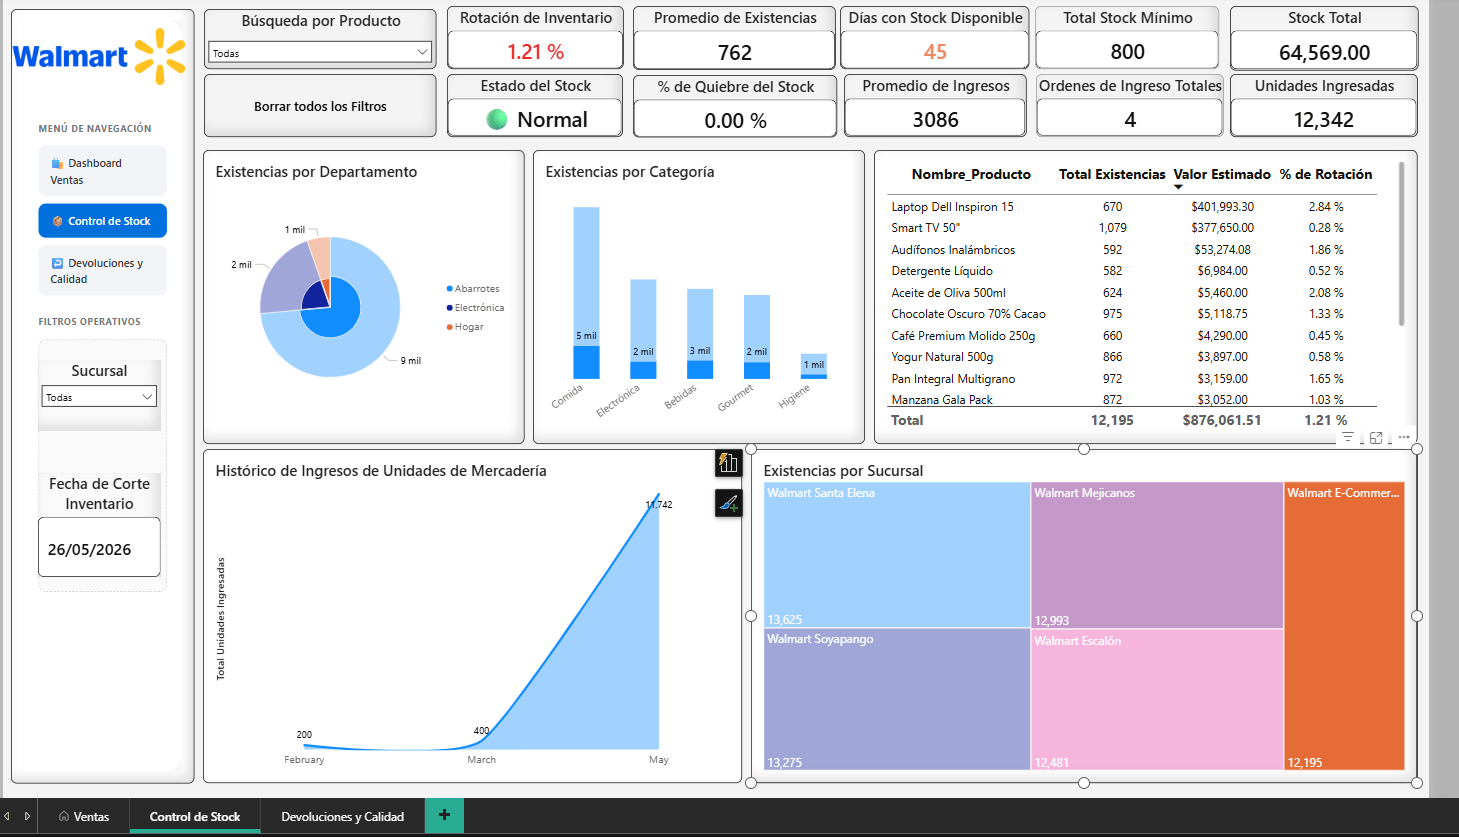

What the dashboard file says about the page in this screenshot:
{"tool":"powerbi","page":{"name":"Control de Stock","canvas":[1920,1080],"ordinal":1},"visuals":[{"type":"htmlContent443BE3AD55E043BF878BED274D3A6865","fields":{"content":["Medidas.Barra_Lateral_Stock"]},"box":[10.9,17.2,247,1042.9],"z":0},{"type":"cardVisual","title":"Stock Total","fields":{"Data":["Medidas.Total Existencias_Global"]},"box":[1652.4,13.9,253.7,86.9],"z":1000},{"type":"cardVisual","title":"Total Stock Mínimo","fields":{"Data":["Medidas.Total Stock Minimo"]},"box":[1390,13.9,248.5,85.1],"z":2000},{"type":"cardVisual","title":"Rotación de Inventario","fields":{"Data":["Medidas.Rotacion de Inventario"]},"box":[597.7,13.9,238,85.1],"z":3000},{"type":"cardVisual","title":"Promedio de Existencias","fields":{"Data":["Medidas.Promedio Existencias"]},"box":[848.4,13.5,273.4,86.2],"z":4000},{"type":"tableEx","fields":{"Values":["vDim_Productos.Nombre_Producto","Medidas.Total Existencias","Medidas.Valor Estimado del Inventario","Medidas.Rotacion de Inventario"]},"box":[1172.9,206.8,731.5,396.2],"z":5000},{"type":"columnChart","title":"Existencias por Categoría","fields":{"Category":["vDim_Productos.Categoria"],"Y":["Medidas.Total Existencias"]},"box":[714.1,206.8,446.6,396.2],"z":6000},{"type":"pieChart","title":"Existencias por Departamento","fields":{"Category":["vDim_Departamentos.Nombre_Departamento"],"Y":["Medidas.Total Existencias"]},"box":[269.3,206.8,432.7,396.2],"z":7000},{"type":"lineChart","title":"Histórico de Ingresos de Unidades de Mercadería","fields":{"Category":["vDim_Calendario.Anio Jerarquía.Anio","vDim_Calendario.Anio Jerarquía.Nombre_Mes"],"Y":["Medidas.Total Unidades Ingresadas"]},"box":[269.8,610.6,726.5,449.7],"z":8000},{"type":"treemap","title":"Existencias por Sucursal","fields":{"Group":["vDim_Tiendas.Nombre_Tienda"],"Values":["Medidas.Total Existencias"]},"box":[1006.7,610.6,897.7,449.7],"z":9000},{"type":"actionButton","title":"Ventas","box":[39.8,195.5,190.3,83],"z":10000},{"type":"image","box":[0,13.9,258,135],"z":11000},{"type":"actionButton","title":"Ventas","box":[34.6,278.5,190.3,48.4],"z":12000},{"type":"actionButton","title":"Ventas","box":[34.6,342.5,190.3,65.7],"z":13000},{"type":"slicer","title":"Sucursal","fields":{"Values":["vDim_Tiendas.Nombre_Tienda"]},"box":[46.7,490.8,165.4,95.3],"z":14000},{"type":"cardVisual","title":"Unidades Ingresadas","fields":{"Data":["Medidas.Total Unidades Ingresadas"]},"box":[1651.9,105.5,252.5,84.8],"z":15000},{"type":"cardVisual","title":"Ordenes de Ingreso Totales","fields":{"Data":["Medidas.Total_Embarques"]},"box":[1390.7,105.5,252.5,84.8],"z":16000},{"type":"cardVisual","title":"Promedio de Ingresos","fields":{"Data":["Medidas.Promedio Unidades por Ingreso"]},"box":[1133,105.5,245.6,84.8],"z":17000},{"type":"cardVisual","title":"% de Quiebre del Stock","fields":{"Data":["Medidas.% Quiebre de Stock"]},"box":[848.5,106.1,275.1,84.5],"z":18000},{"type":"cardVisual","title":"Estado del Stock","fields":{"Data":["Medidas.KPI Estado Stock"]},"box":[598.5,105.5,237,84.8],"z":19000},{"type":"cardVisual","title":"Días con Stock Disponible","fields":{"Data":["Medidas.Dias de Stock Disponible"]},"box":[1127.7,13.9,255.4,85.1],"z":20000},{"type":"slicer","title":"Búsqueda por Producto","fields":{"Values":["vDim_Productos.Nombre_Producto"]},"box":[270.1,17.3,313.4,81.4],"z":21000},{"type":"actionButton","box":[270.1,105.6,313.4,84.8],"z":22000},{"type":"cardVisual","title":"Fecha de Corte Inventario","fields":{"Data":["Medidas.Ultima_Actualizacion_Stock"]},"box":[46.7,641.8,165.4,140.2],"z":23000}]}

Visuals, with their boxes on the page's 1920x1080 design canvas (x1, y1, x2, y2). These are canvas units, not pixel positions in the 1459x837 screenshot, which may show the page scaled, cropped or inside an application window:
htmlContent443BE3AD55E043BF878BED274D3A6865 - Medidas.Barra_Lateral_Stock: (left=11, top=17, right=258, bottom=1060)
"Stock Total" cardVisual: (left=1652, top=14, right=1906, bottom=101)
"Total Stock Mínimo" cardVisual: (left=1390, top=14, right=1638, bottom=99)
"Rotación de Inventario" cardVisual: (left=598, top=14, right=836, bottom=99)
"Promedio de Existencias" cardVisual: (left=848, top=14, right=1122, bottom=100)
tableEx - vDim_Productos.Nombre_Producto x Medidas.Total Existencias: (left=1173, top=207, right=1904, bottom=603)
"Existencias por Categoría" columnChart: (left=714, top=207, right=1161, bottom=603)
"Existencias por Departamento" pieChart: (left=269, top=207, right=702, bottom=603)
"Histórico de Ingresos de Unidades de Mercadería" lineChart: (left=270, top=611, right=996, bottom=1060)
"Existencias por Sucursal" treemap: (left=1007, top=611, right=1904, bottom=1060)
"Ventas" actionButton: (left=40, top=196, right=230, bottom=278)
image: (left=0, top=14, right=258, bottom=149)
"Ventas" actionButton: (left=35, top=278, right=225, bottom=327)
"Ventas" actionButton: (left=35, top=342, right=225, bottom=408)
"Sucursal" slicer: (left=47, top=491, right=212, bottom=586)
"Unidades Ingresadas" cardVisual: (left=1652, top=106, right=1904, bottom=190)
"Ordenes de Ingreso Totales" cardVisual: (left=1391, top=106, right=1643, bottom=190)
"Promedio de Ingresos" cardVisual: (left=1133, top=106, right=1379, bottom=190)
"% de Quiebre del Stock" cardVisual: (left=848, top=106, right=1124, bottom=191)
"Estado del Stock" cardVisual: (left=598, top=106, right=836, bottom=190)
"Días con Stock Disponible" cardVisual: (left=1128, top=14, right=1383, bottom=99)
"Búsqueda por Producto" slicer: (left=270, top=17, right=584, bottom=99)
actionButton: (left=270, top=106, right=584, bottom=190)
"Fecha de Corte Inventario" cardVisual: (left=47, top=642, right=212, bottom=782)
